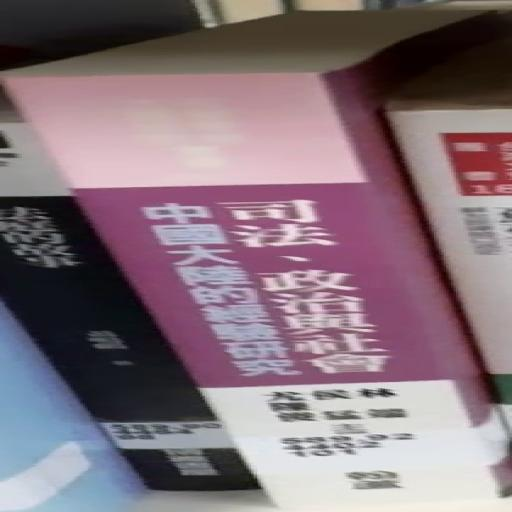book: (1, 1, 510, 512)
